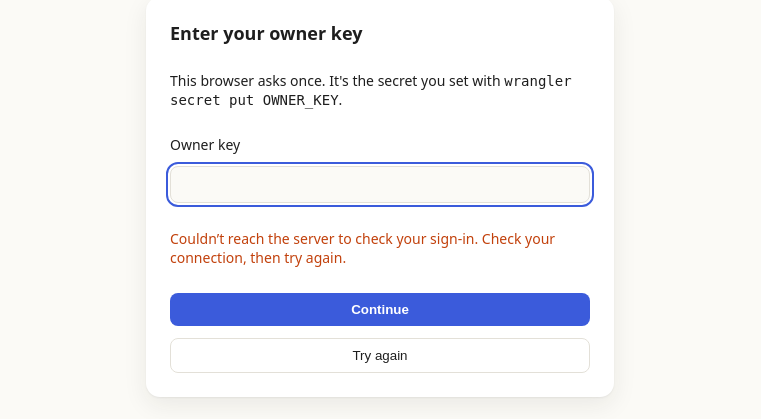
Scenario: ListPage › when the server cannot be asked, says so and offers to try again, which works once it answers
Expected: the message shows "Couldn’t reach the server", [170, 229, 555, 267]
Expected: the text "Weekly plan" is not shown
Click the button "Try again" at x=380, y=356, box [170, 338, 590, 373]
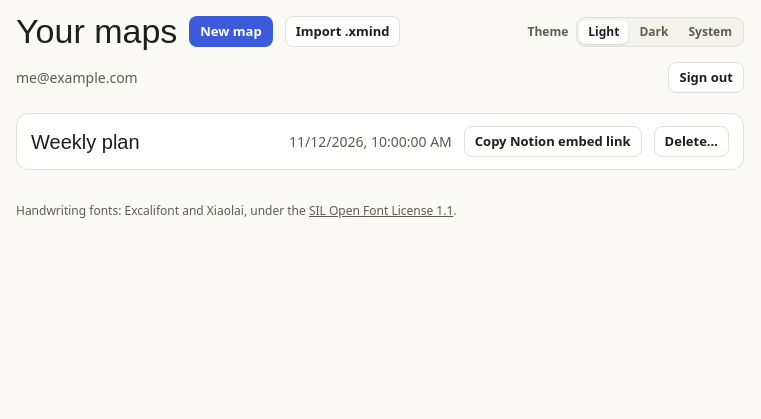
Result: the text "Weekly plan" is shown at [31, 130, 140, 154]
